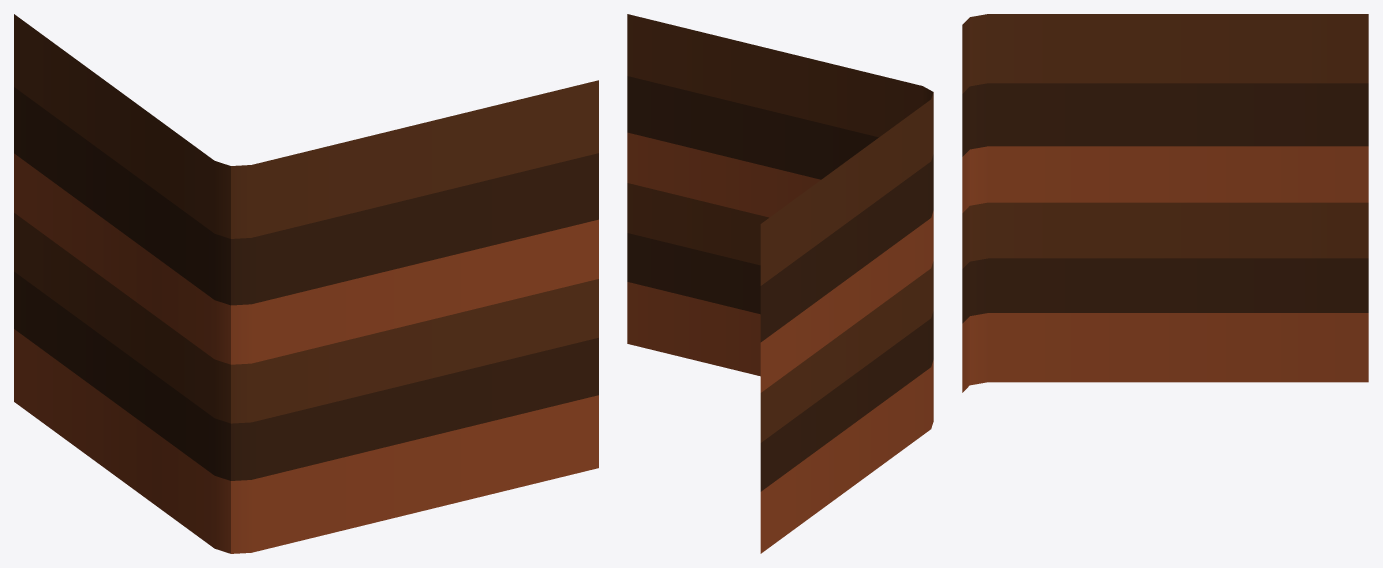
File: Cube_Grass_CornerCenter_Tall.fbx
3 renders of one model, left to right at view 1: azimuth 30°, elevation 25°; view 2: azimuth 150°, elevation 25°; view 3: azimuth 270°, elevation 25°, orthographic. The views are drawn at different scales.
Parts seen in each view (by area): view 1: Cube_Grass_CornerCenter_Tall; view 2: Cube_Grass_CornerCenter_Tall; view 3: Cube_Grass_CornerCenter_Tall.
Part boxes in pixels (x1=…): Cube_Grass_CornerCenter_Tall: x1=14, y1=14, x2=598, y2=553; Cube_Grass_CornerCenter_Tall: x1=627, y1=14, x2=933, y2=553; Cube_Grass_CornerCenter_Tall: x1=962, y1=14, x2=1368, y2=392.
Bounding box in the file's own units: 200 × 200 × 200.
